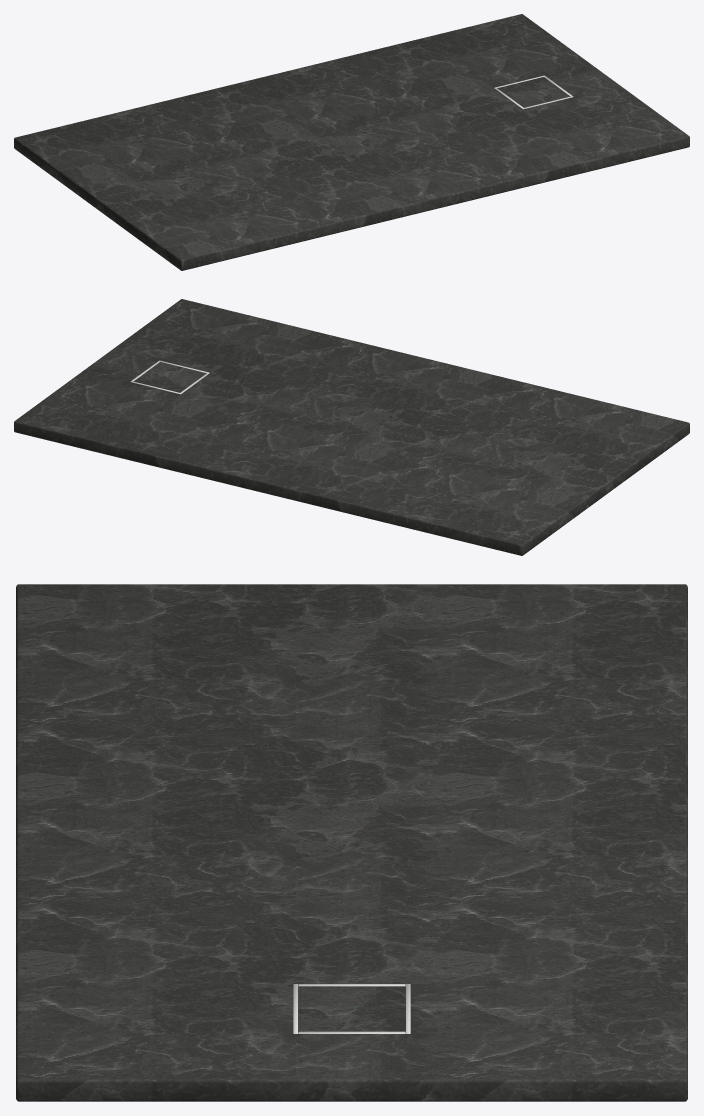
File: plato_ducha_80x140_antracita.glb
3 views of the same model, one above another, from view 1: azimuth 30°, elevation 25°; view 2: azimuth 150°, elevation 25°; view 3: azimuth 270°, elevation 25° (orthographic). The views are drawn at different scales.
Visible parts, largest first — view 1: plato_ducha_80x140_antracita; view 2: plato_ducha_80x140_antracita; view 3: plato_ducha_80x140_antracita.
Part boxes in pixels (x1,y1,x2,y2): plato_ducha_80x140_antracita: (14,14,689,270); plato_ducha_80x140_antracita: (14,299,689,555); plato_ducha_80x140_antracita: (16,584,687,1101).
Bounding box in the file's own units: 1.4 × 0.0304 × 0.8001.
Materials: 2 (1 with a texture image).
